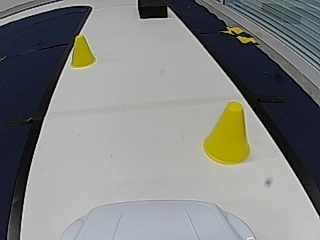block: (138, 0, 167, 19)
cone: (203, 100, 251, 165), (72, 37, 97, 68)
